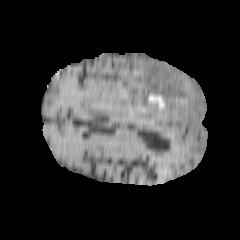glioma: (113, 58, 187, 125)
